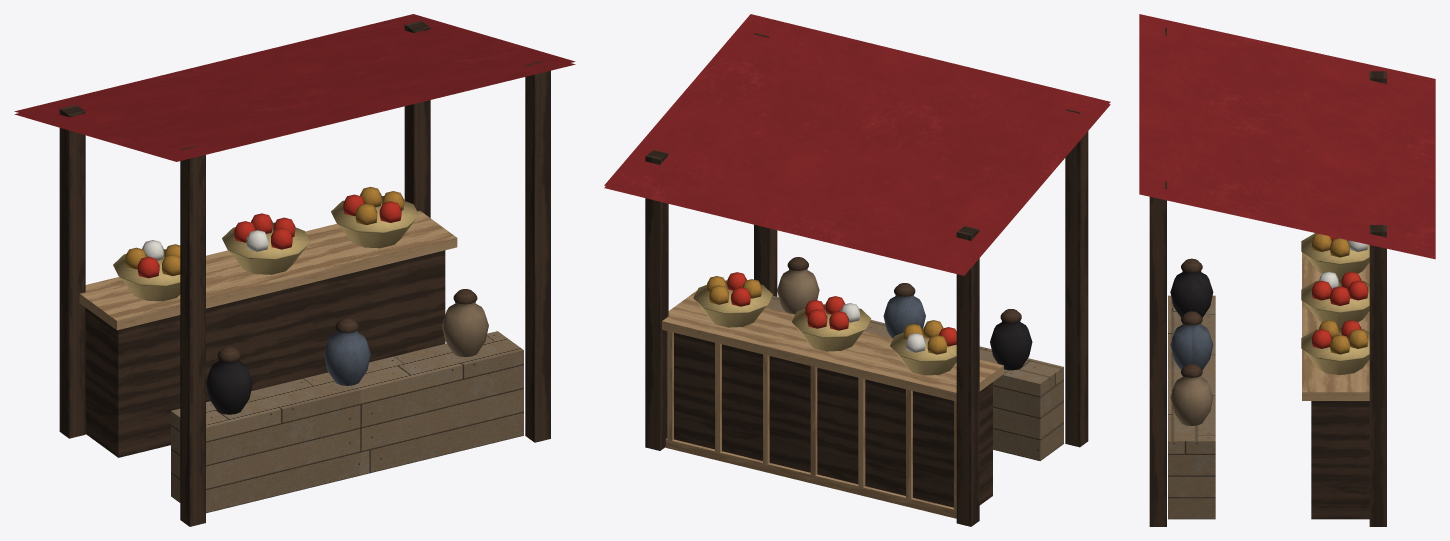
The model's file is HO_Prop_MarketStall_A.fbx.
3 renders of one model, left to right at view 1: azimuth 30°, elevation 25°; view 2: azimuth 150°, elevation 25°; view 3: azimuth 270°, elevation 25°, orthographic. The views are drawn at different scales.
Visible parts, largest first — view 1: HO_Prop_MarketStall_A__Timber_Dark, HO_Prop_MarketStall_A__Cloth_Crimson, HO_Prop_MarketStall_A__Wood_Planks, HO_Prop_MarketStall_A__Timber_Light, HO_Prop_MarketStall_A__Straw, HO_Prop_MarketStall_A__Red_Lacquer, HO_Prop_MarketStall_A__RoofTile_Clay, HO_Prop_MarketStall_A__Black_Lacquer, HO_Prop_MarketStall_A__Earth_Packed, HO_Prop_MarketStall_A__Cloth_Ochre, HO_Prop_MarketStall_A__Cloth_White; view 2: HO_Prop_MarketStall_A__Cloth_Crimson, HO_Prop_MarketStall_A__Timber_Dark, HO_Prop_MarketStall_A__Timber_Light, HO_Prop_MarketStall_A__Wood_Planks, HO_Prop_MarketStall_A__Straw, HO_Prop_MarketStall_A__Red_Lacquer, HO_Prop_MarketStall_A__Black_Lacquer, HO_Prop_MarketStall_A__Cloth_Ochre, HO_Prop_MarketStall_A__Earth_Packed, HO_Prop_MarketStall_A__RoofTile_Clay, HO_Prop_MarketStall_A__Cloth_White; view 3: HO_Prop_MarketStall_A__Cloth_Crimson, HO_Prop_MarketStall_A__Timber_Dark, HO_Prop_MarketStall_A__Wood_Planks, HO_Prop_MarketStall_A__Straw, HO_Prop_MarketStall_A__Timber_Light, HO_Prop_MarketStall_A__Red_Lacquer, HO_Prop_MarketStall_A__Earth_Packed, HO_Prop_MarketStall_A__Black_Lacquer, HO_Prop_MarketStall_A__RoofTile_Clay, HO_Prop_MarketStall_A__Cloth_Ochre, HO_Prop_MarketStall_A__Cloth_White.
Part boxes in pixels (x1,y1,x2,y2): HO_Prop_MarketStall_A__Timber_Dark: [59, 20, 550, 526]; HO_Prop_MarketStall_A__Cloth_Crimson: [14, 14, 575, 161]; HO_Prop_MarketStall_A__Wood_Planks: [171, 331, 523, 513]; HO_Prop_MarketStall_A__Timber_Light: [79, 210, 457, 330]; HO_Prop_MarketStall_A__Straw: [113, 196, 419, 301]; HO_Prop_MarketStall_A__Red_Lacquer: [137, 194, 401, 278]; HO_Prop_MarketStall_A__RoofTile_Clay: [324, 330, 370, 385]; HO_Prop_MarketStall_A__Black_Lacquer: [206, 359, 252, 414]; HO_Prop_MarketStall_A__Earth_Packed: [442, 302, 488, 357]; HO_Prop_MarketStall_A__Cloth_Ochre: [125, 187, 404, 276]; HO_Prop_MarketStall_A__Cloth_White: [142, 230, 268, 260]; HO_Prop_MarketStall_A__Cloth_Crimson: [604, 14, 1110, 275]; HO_Prop_MarketStall_A__Timber_Dark: [645, 33, 1088, 526]; HO_Prop_MarketStall_A__Timber_Light: [662, 290, 1003, 518]; HO_Prop_MarketStall_A__Wood_Planks: [766, 296, 1063, 460]; HO_Prop_MarketStall_A__Straw: [693, 280, 956, 375]; HO_Prop_MarketStall_A__Red_Lacquer: [727, 272, 956, 346]; HO_Prop_MarketStall_A__Black_Lacquer: [990, 320, 1032, 370]; HO_Prop_MarketStall_A__Cloth_Ochre: [707, 276, 947, 354]; HO_Prop_MarketStall_A__Earth_Packed: [777, 269, 819, 314]; HO_Prop_MarketStall_A__RoofTile_Clay: [883, 294, 925, 338]; HO_Prop_MarketStall_A__Cloth_White: [840, 303, 925, 352]; HO_Prop_MarketStall_A__Cloth_Crimson: [1139, 14, 1435, 259]; HO_Prop_MarketStall_A__Timber_Dark: [1149, 28, 1386, 526]; HO_Prop_MarketStall_A__Wood_Planks: [1168, 295, 1215, 519]; HO_Prop_MarketStall_A__Straw: [1301, 233, 1369, 374]; HO_Prop_MarketStall_A__Timber_Light: [1302, 252, 1369, 400]; HO_Prop_MarketStall_A__Red_Lacquer: [1312, 236, 1368, 348]; HO_Prop_MarketStall_A__Earth_Packed: [1170, 375, 1213, 425]; HO_Prop_MarketStall_A__Black_Lacquer: [1170, 270, 1213, 317]; HO_Prop_MarketStall_A__RoofTile_Clay: [1170, 323, 1213, 370]; HO_Prop_MarketStall_A__Cloth_Ochre: [1312, 233, 1368, 354]; HO_Prop_MarketStall_A__Cloth_White: [1319, 240, 1367, 289].
Size of the model in its own units: 8.8 by 7.93 by 6.2.
